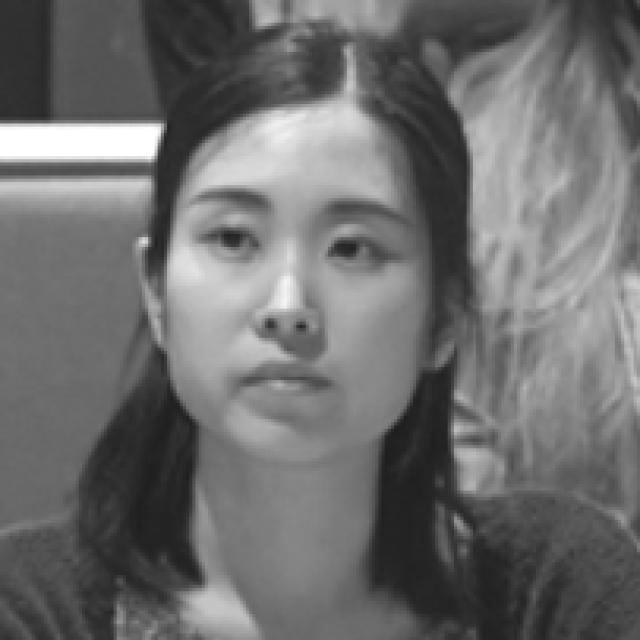Looking forward: (170, 111, 418, 461)
